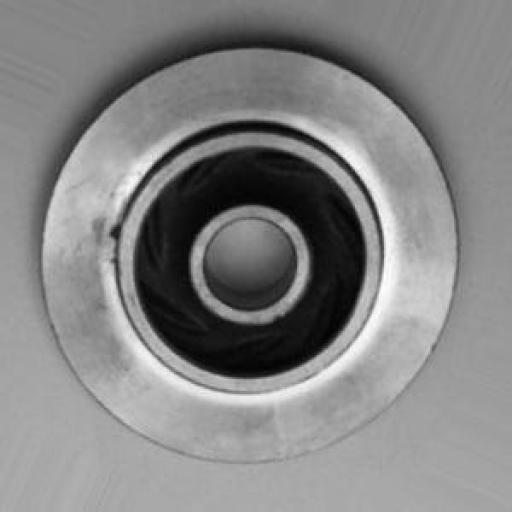defect: (92, 190, 143, 276)
